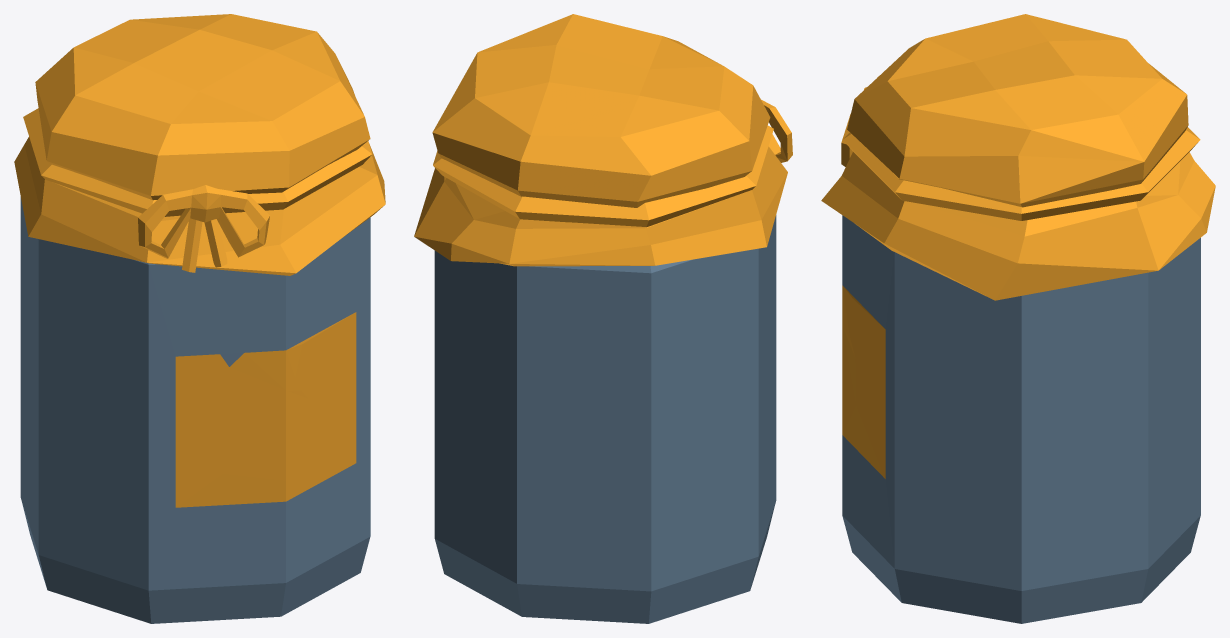
File: SM_Jam_Strawberry.fbx
3 renders of one model, left to right at view 1: azimuth 30°, elevation 25°; view 2: azimuth 150°, elevation 25°; view 3: azimuth 270°, elevation 25°, orthographic. The views are drawn at different scales.
Visible parts, largest first — view 1: jam-strawberry; view 2: jam-strawberry; view 3: jam-strawberry.
Part boxes in pixels (x1,y1,x2,y2): jam-strawberry: (14,14,385,623); jam-strawberry: (414,14,792,623); jam-strawberry: (821,14,1215,623).
Size of the model in its own units: 0.1307 by 0.182 by 0.1321.
